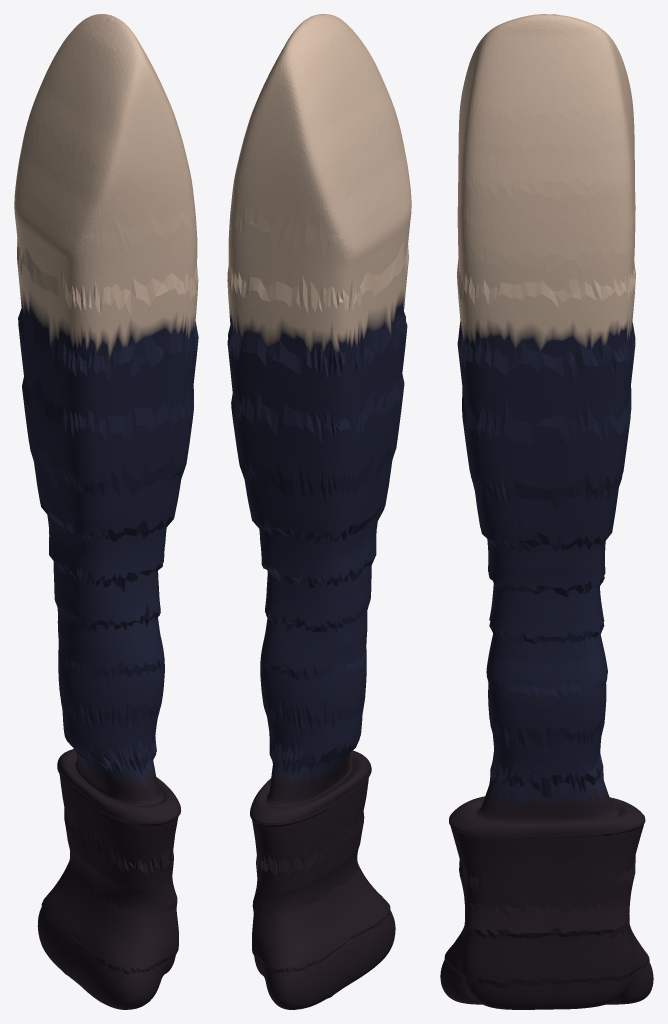
Rendered from leg_R.glb.
The picture shows the model from 3 angles, left to right: view 1: azimuth 30°, elevation 25°; view 2: azimuth 150°, elevation 25°; view 3: azimuth 270°, elevation 25°; orthographic projection. The views are drawn at different scales.
Parts seen in each view (by area): view 1: geometry_0; view 2: geometry_0; view 3: geometry_0.
Boxes of the visible parts, left/top/right/bottom form: geometry_0: left=14, top=14, right=198, bottom=1009; geometry_0: left=227, top=14, right=411, bottom=1009; geometry_0: left=440, top=14, right=653, bottom=1009.
Bounding box in the file's own units: 0.1979 × 1.38 × 0.265.
